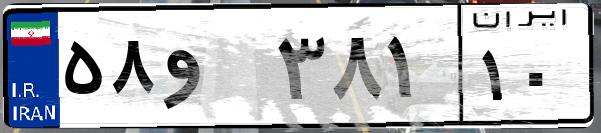0: (525, 38, 570, 115)
1: (385, 28, 445, 110), (475, 38, 525, 113)
3: (270, 28, 330, 110)
5: (57, 26, 110, 100)
8: (330, 28, 385, 110), (110, 28, 158, 98)
و: (158, 20, 270, 120)
